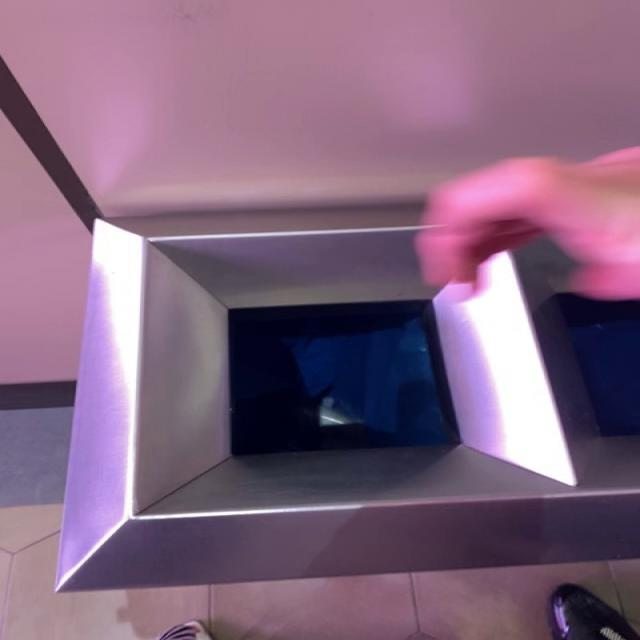bin: (59, 207, 639, 592)
metal: (319, 397, 363, 428)
